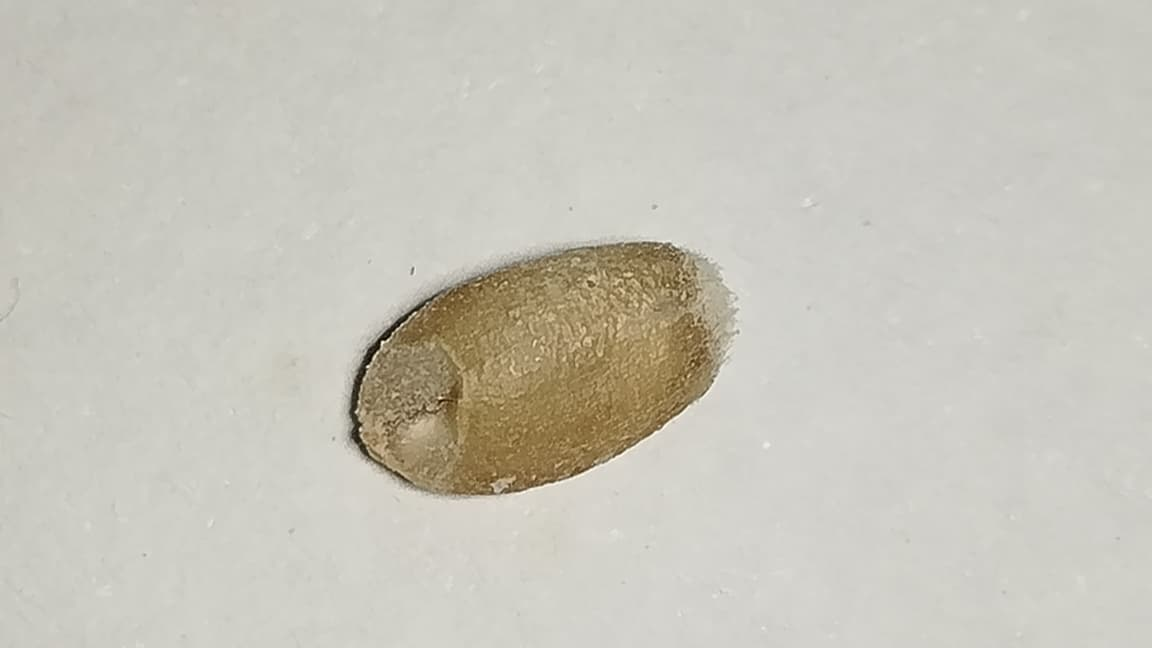damage: (351, 241, 739, 499)
insectdamage: (368, 322, 475, 470)
